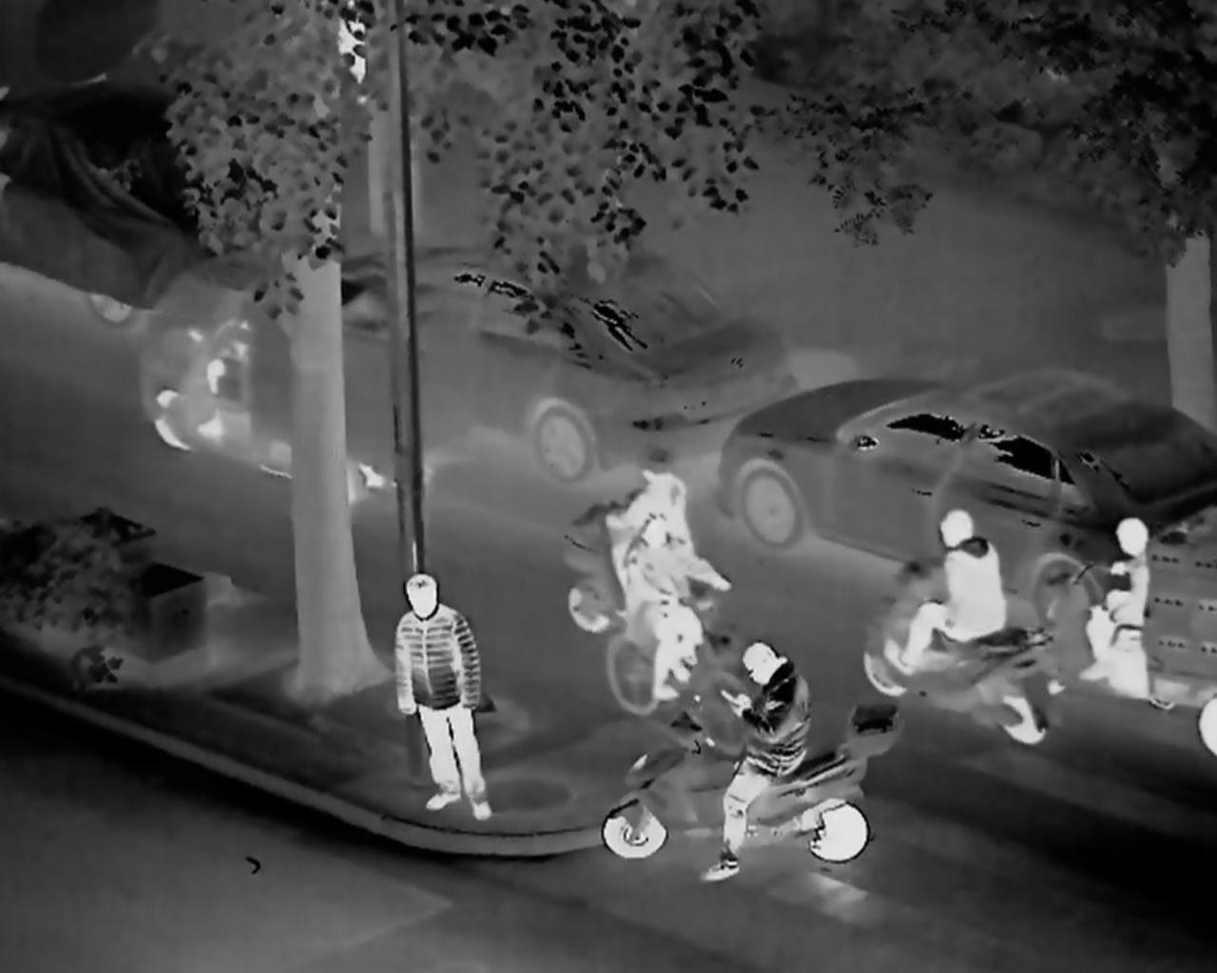person: (376, 559, 527, 817), (705, 635, 829, 920), (875, 496, 1012, 703), (606, 524, 731, 703), (1083, 517, 1170, 696), (157, 296, 253, 437), (626, 465, 706, 614)
